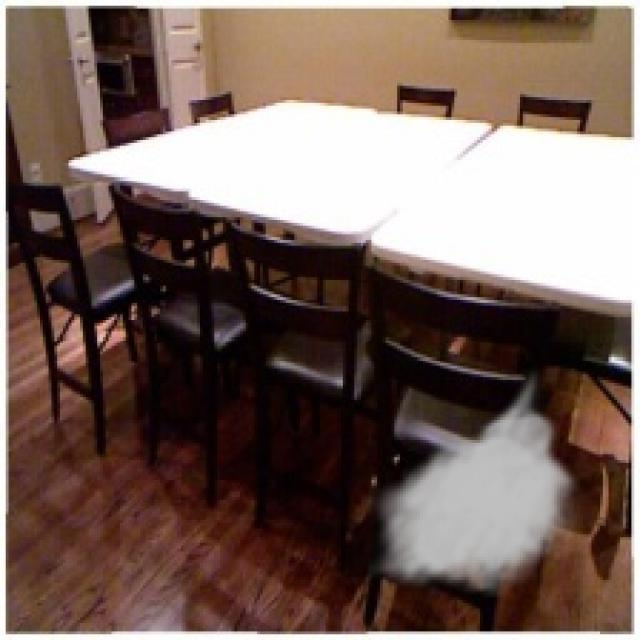Smoke: (366, 366, 583, 598)
